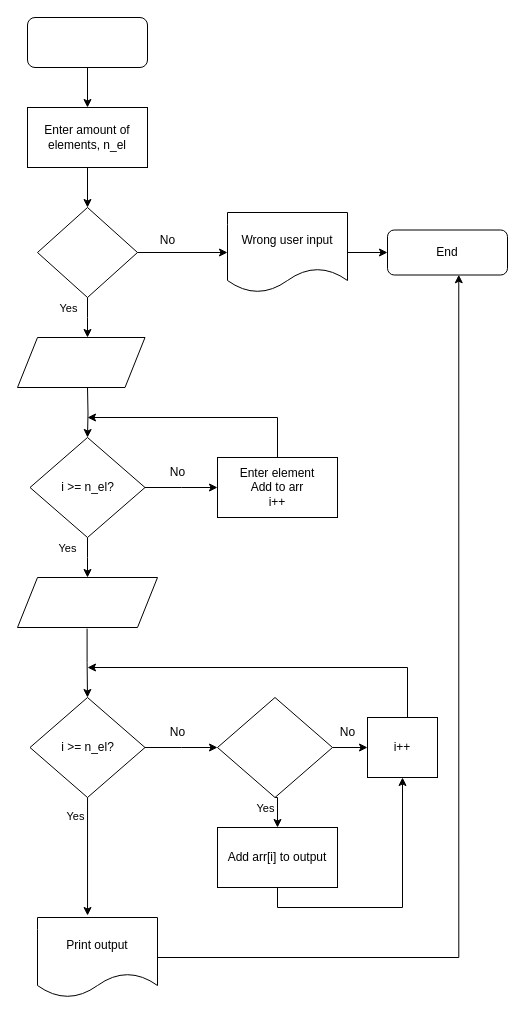
Image size: 525x1015. Some labels were removed from this diagram. Each missing label, with the centre of its shape:
arr[i].Length <= 3: (274,747)
i = 0 Declare Array with length n_el, arr: (80,362)
i = 0 declare sorted data, output: (87,602)
Is n_el ok?: (87,252)
Start: (87,42)
